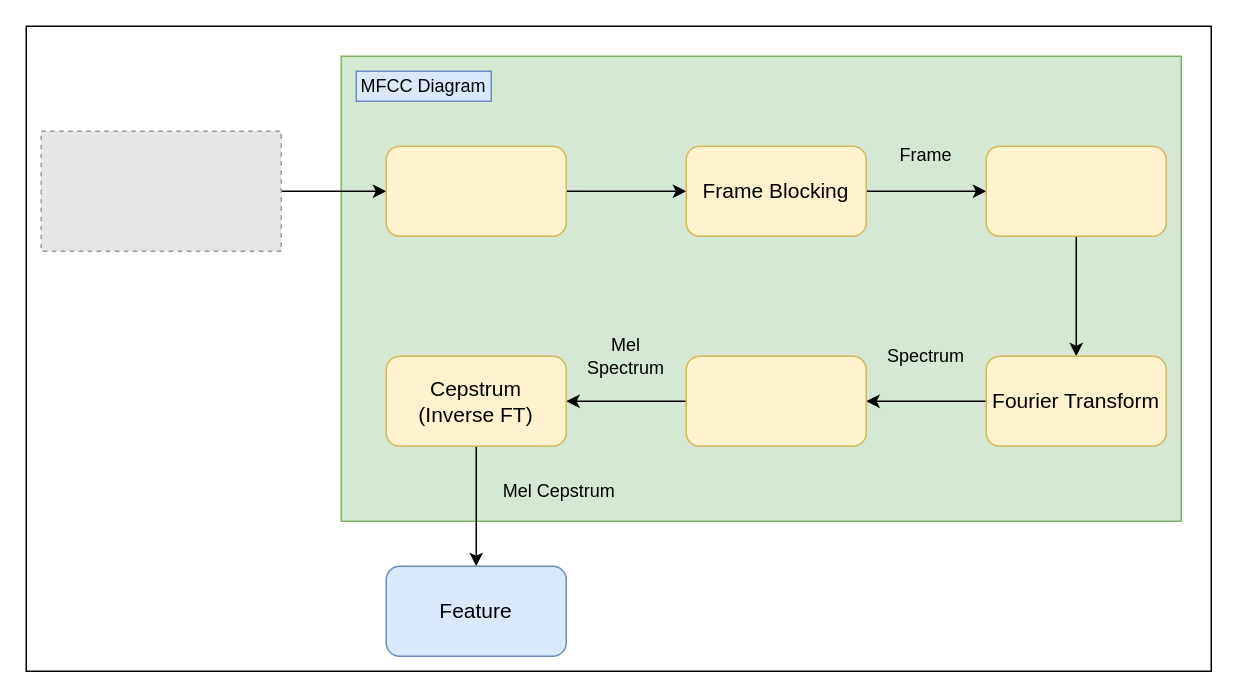
The diagram is 1238 pixels wide and 698 high, and some of its shapes have lost their labels. Grey dashed boxes stand in for pictures. The box of each missing label's shape, as (x1, y1, x2, y2) in pixels:
Mel-Frequency Wrapping: (685, 355, 866, 446)
Pre-emphasis: (385, 145, 566, 236)
Windowing: (985, 145, 1166, 236)
